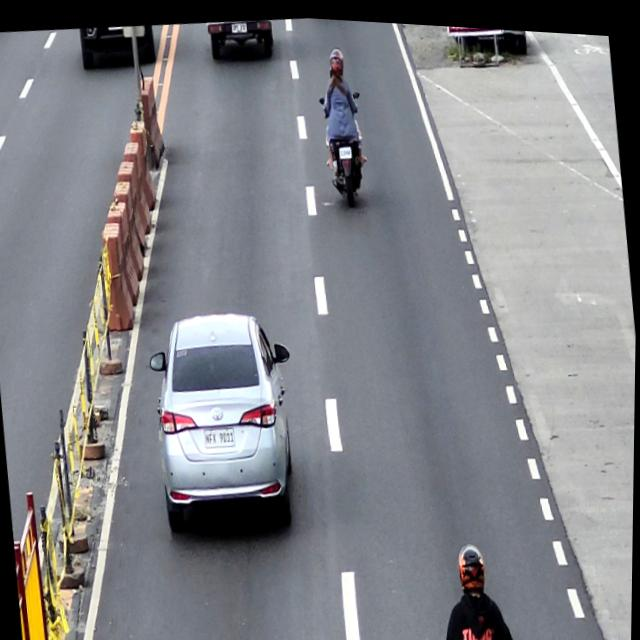Car: (143, 299, 310, 546)
License-Plate: (204, 424, 237, 447), (338, 140, 352, 156)
Motorcycle: (319, 79, 371, 207)
